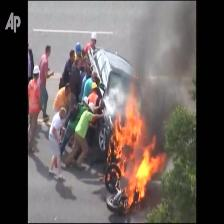fire: (110, 82, 167, 207)
